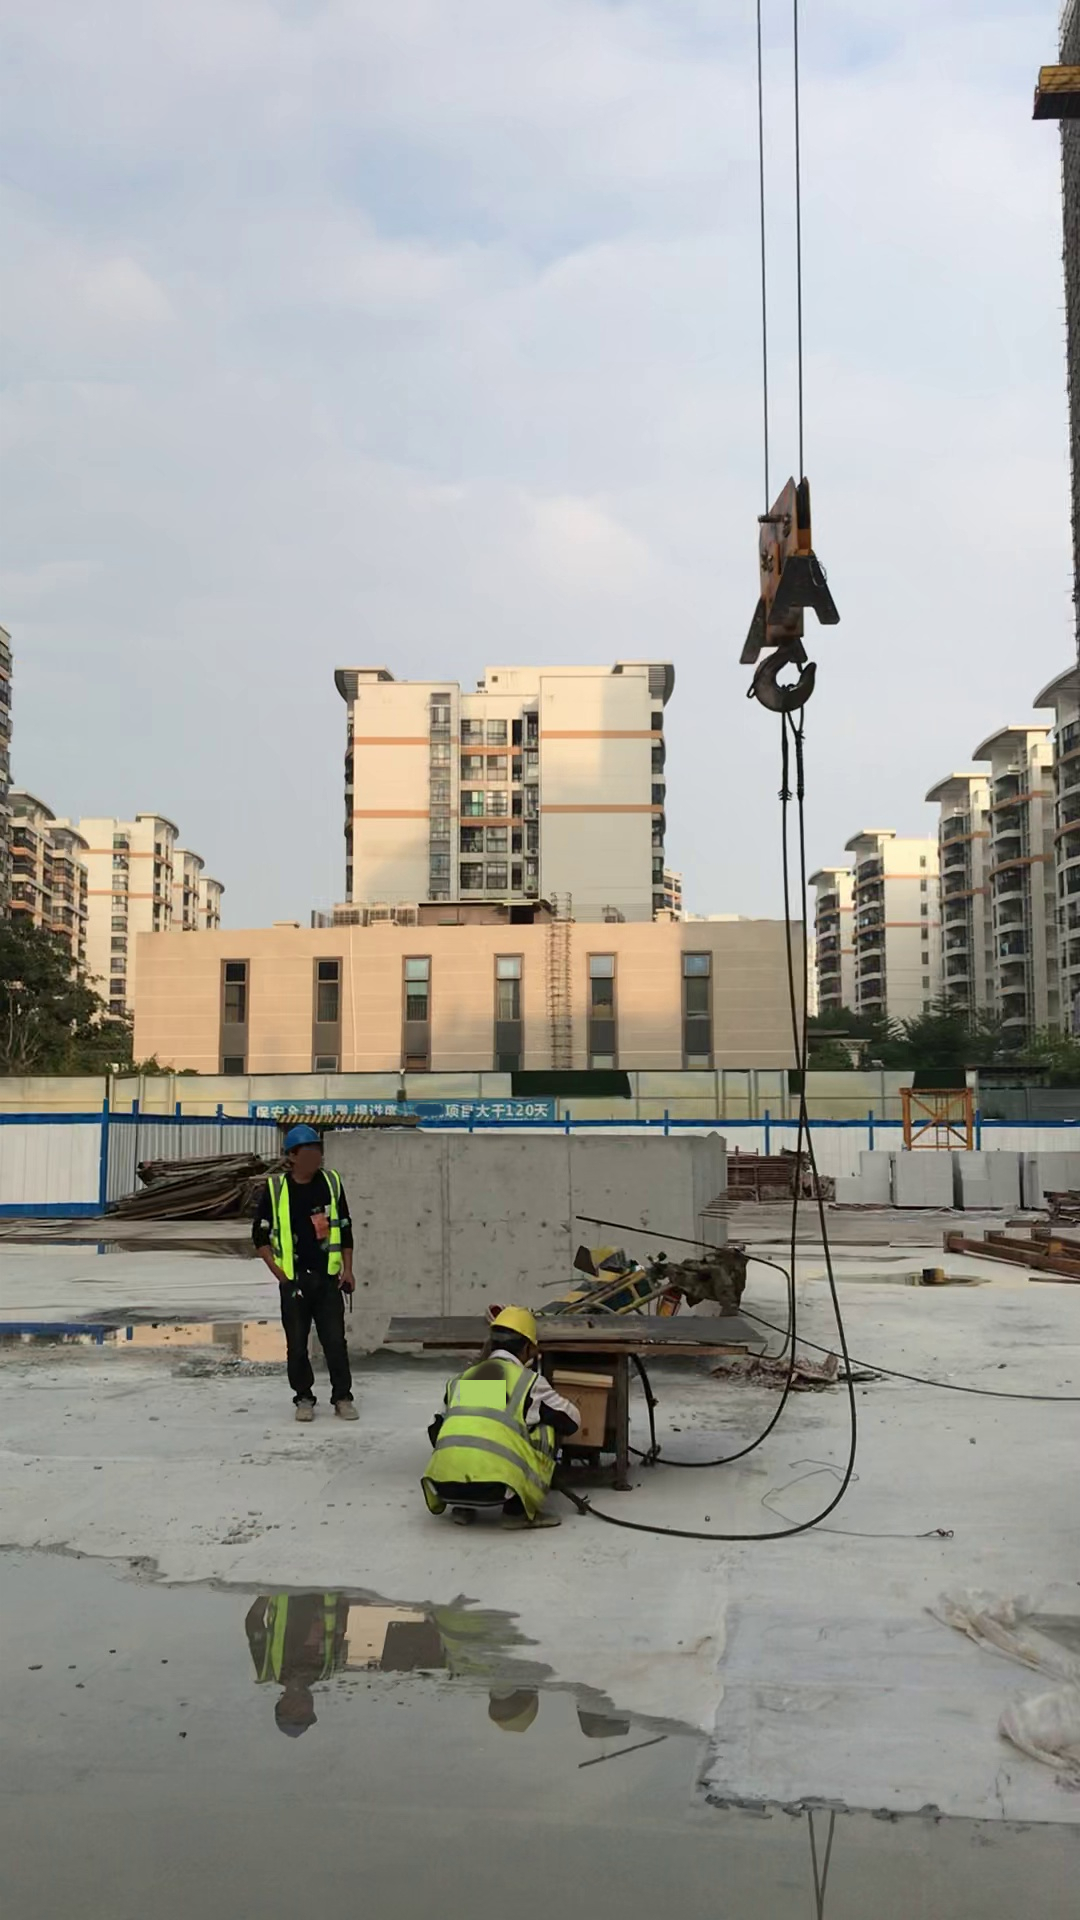brick: (834, 1147, 1080, 1214)
cutter: (386, 1309, 778, 1492)
helmet: (491, 1303, 541, 1351), (280, 1124, 323, 1155)
hook: (736, 477, 849, 730)
person: (432, 1303, 582, 1535), (249, 1125, 361, 1424)
slogan: (251, 1102, 557, 1125)
vest: (430, 1359, 555, 1514), (264, 1172, 348, 1281)
